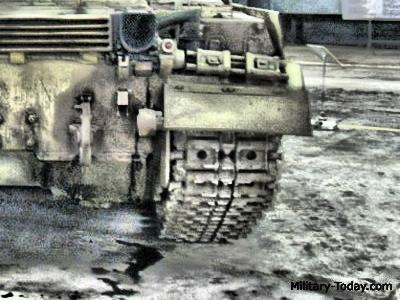tanks: (1, 1, 312, 241)
